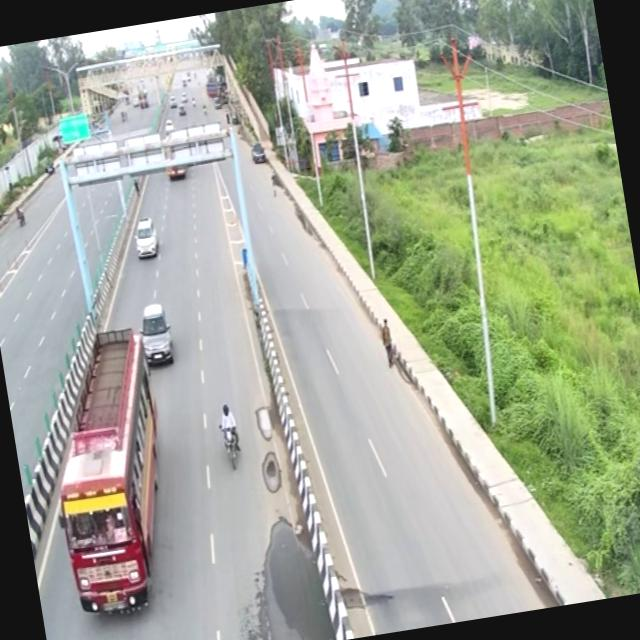car: (167, 221, 223, 279), (170, 158, 210, 195)
